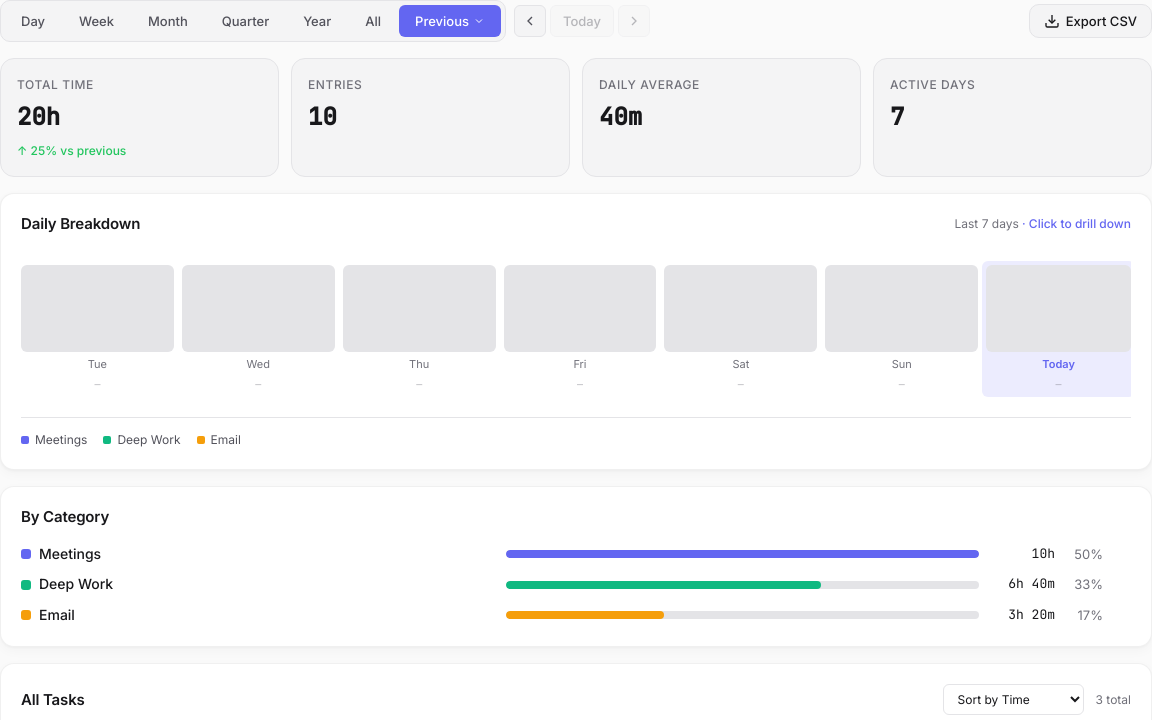
it: Analytics › shows monthly breakdown for all time view
Check: the text "Total Time" is shown, box [17,77,94,92]
Click the button "All" at coordinates (373, 21), box [349,5,397,37]
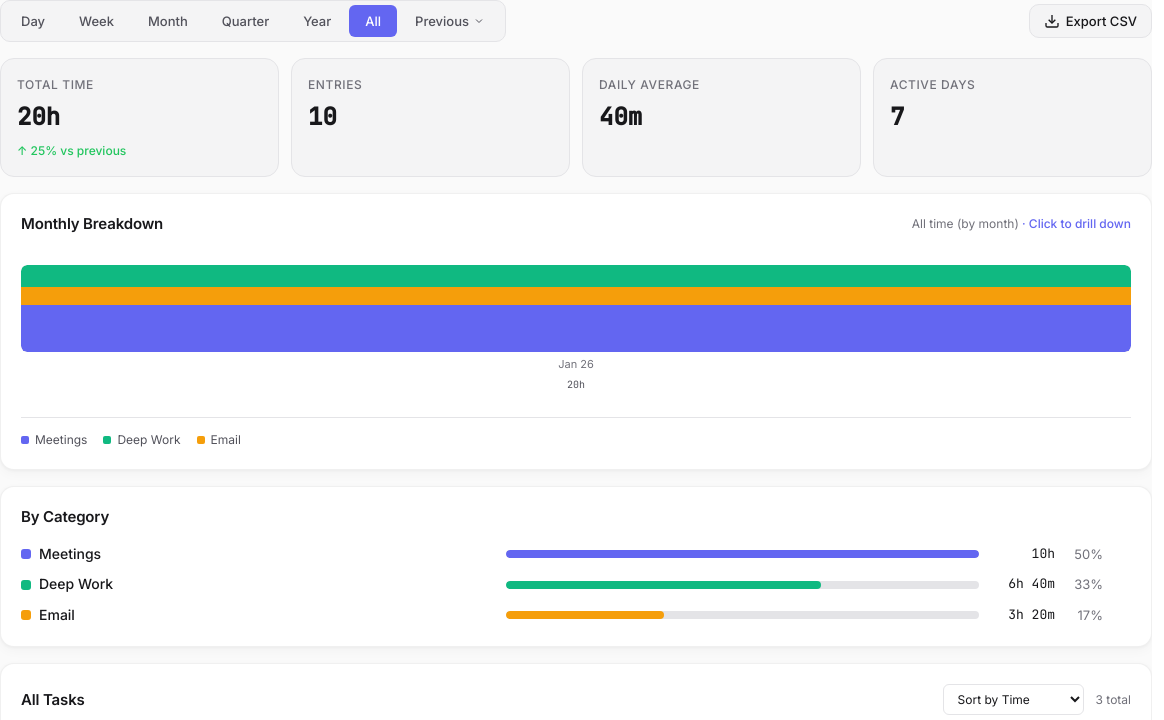
Check: the heading "Monthly Breakdown" is shown, box [21,214,163,233]
Check: the text "All time (by month) · Click to drill down" is shown, box [912,214,1131,233]
